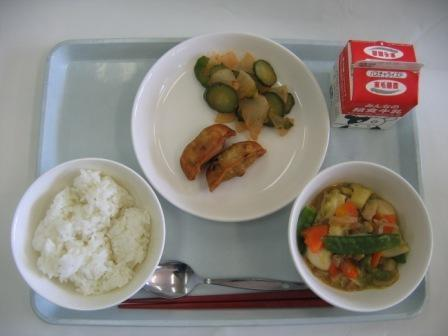Milk: (331, 27, 427, 133)
Rice: (18, 164, 152, 304)
Salad: (197, 49, 300, 128)
tushpara-fried: (172, 124, 271, 187)
vegetable based cooked food: (287, 177, 428, 300)
